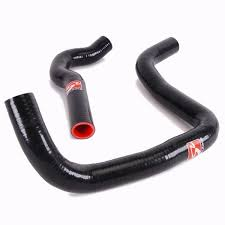radiator_hose: (8, 38, 217, 194), (52, 37, 111, 135)
